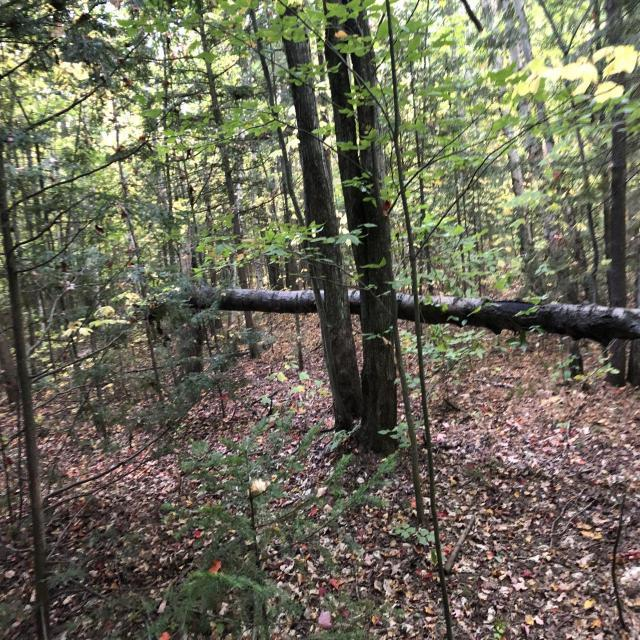fallen_object: (145, 270, 640, 350)
